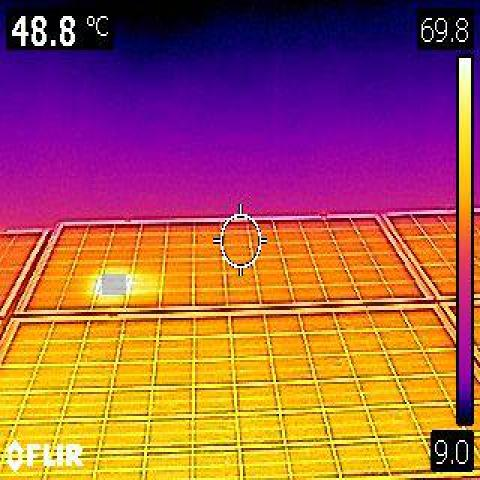fault: (102, 274, 126, 295)
